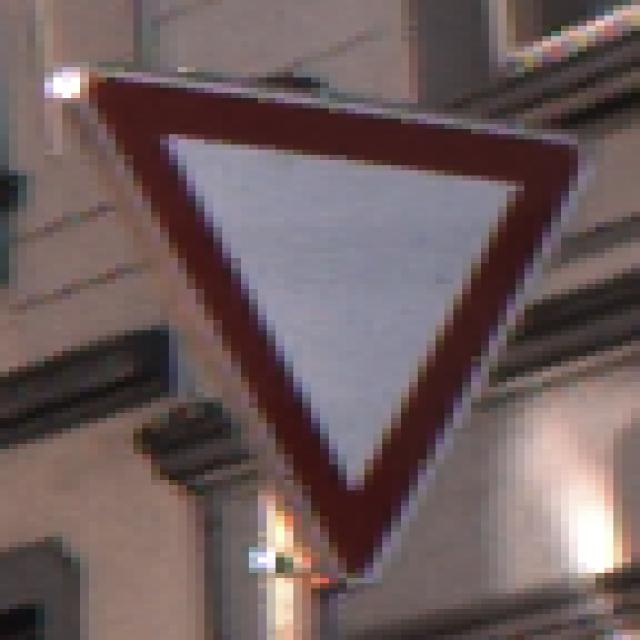Give Way: (54, 53, 588, 590)
